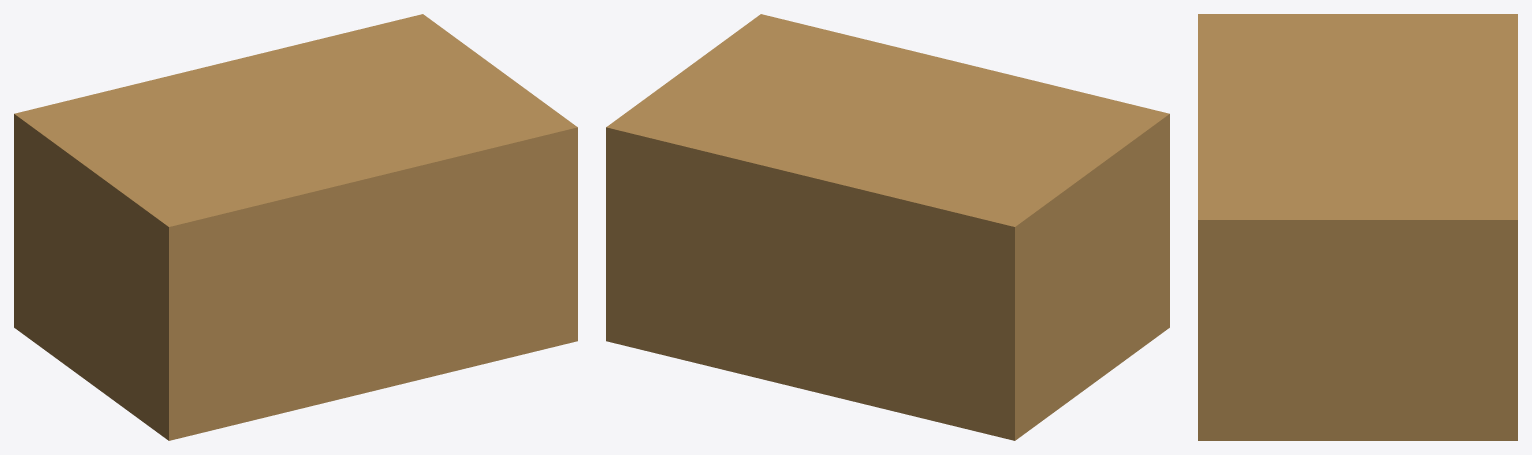
The picture shows the model from 3 angles, left to right: view 1: azimuth 30°, elevation 25°; view 2: azimuth 150°, elevation 25°; view 3: azimuth 270°, elevation 25°; orthographic projection. The views are drawn at different scales.
Parts seen in each view (by area): view 1: RUN-093-S01-NOG-00; view 2: RUN-093-S01-NOG-00; view 3: RUN-093-S01-NOG-00.
Part boxes in pixels (left/top/right/bottom): RUN-093-S01-NOG-00: left=14, top=14, right=577, bottom=440; RUN-093-S01-NOG-00: left=606, top=14, right=1169, bottom=440; RUN-093-S01-NOG-00: left=1198, top=14, right=1517, bottom=440.
Size of the model in its own units: 0.09 by 0.045 by 0.0591.
